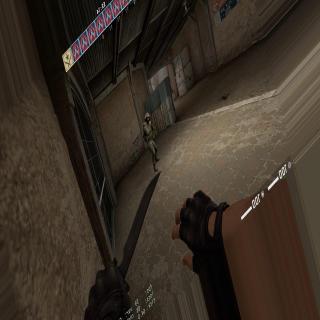CT-Body: (143, 111, 161, 172)
CT-Head: (145, 112, 151, 124)
